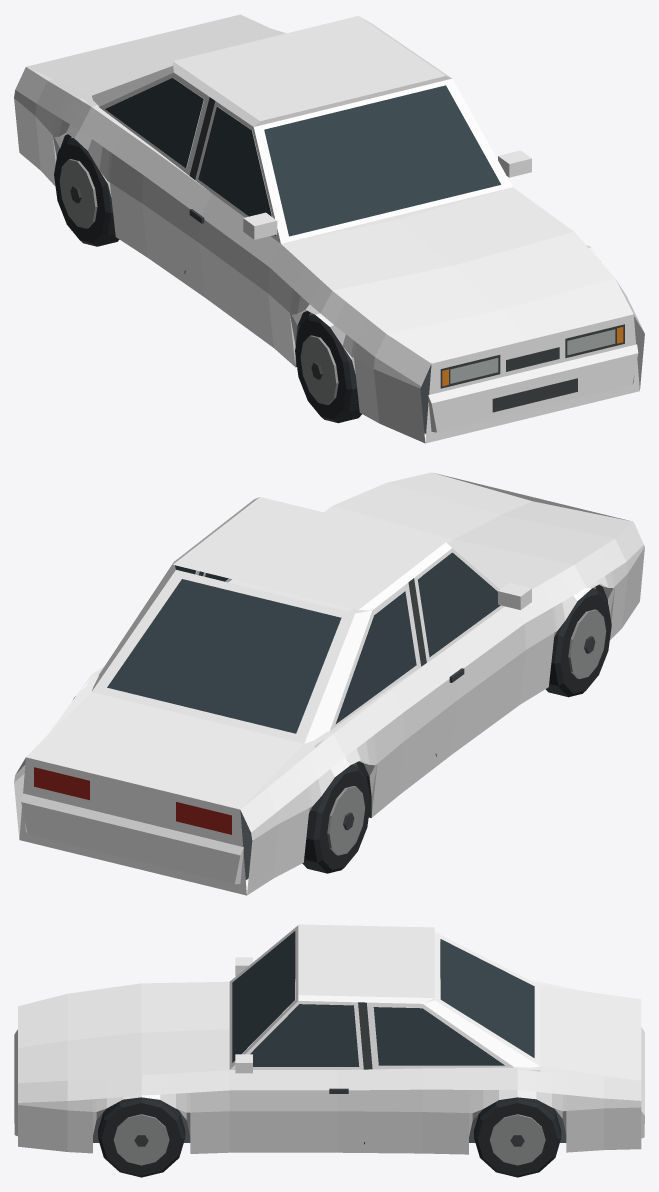
File: mizuchi_chidori.glb
3 views of the same model, one above another, from view 1: azimuth 30°, elevation 25°; view 2: azimuth 150°, elevation 25°; view 3: azimuth 270°, elevation 25° (orthographic). The views are drawn at different scales.
Parts seen in each view (by area): view 1: mizuchi_chidori; view 2: mizuchi_chidori; view 3: mizuchi_chidori.
Boxes of the visible parts, x1=… form: mizuchi_chidori: x1=14, y1=14, x2=644, y2=443; mizuchi_chidori: x1=14, y1=472, x2=644, y2=895; mizuchi_chidori: x1=14, y1=924, x2=644, y2=1177.
Bounding box in the file's own units: 1.71 × 1.27 × 4.31.
Materials: 8 (1 with a texture image).
